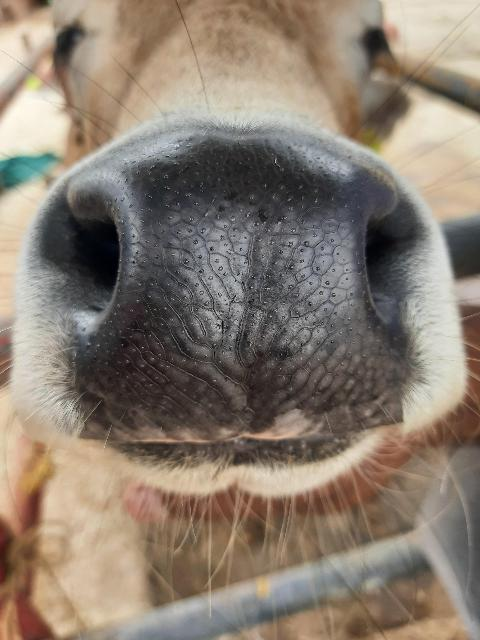Muzzle: (81, 146, 409, 430)
